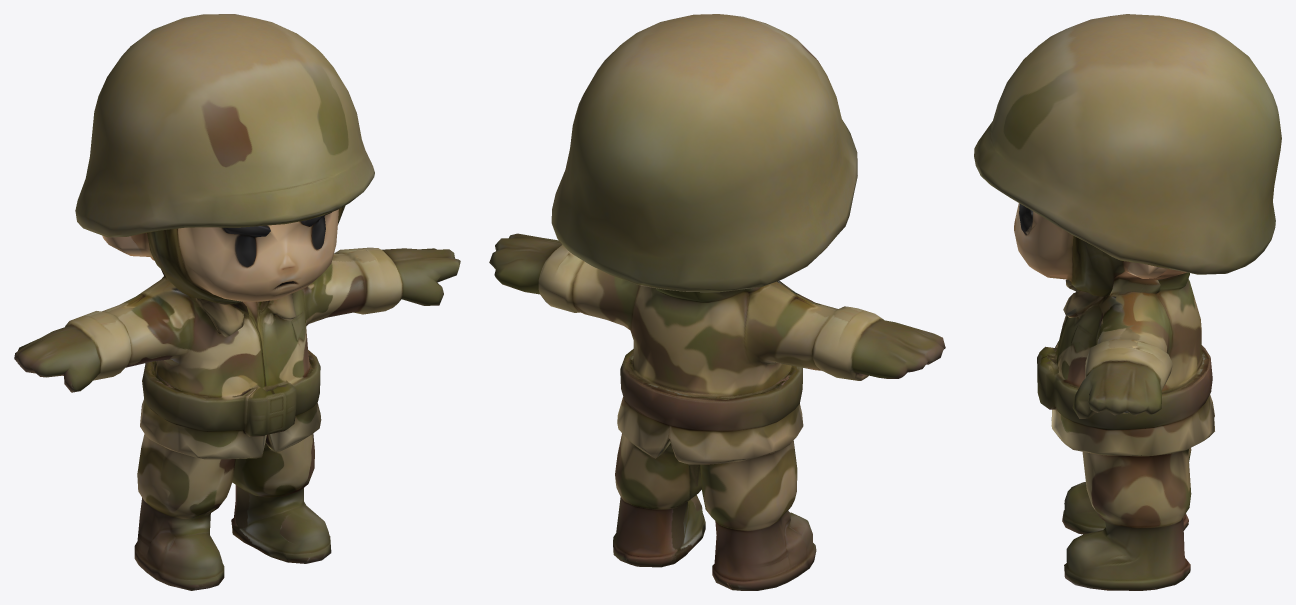
File: enemy_base.fbx
3 renders of one model, left to right at view 1: azimuth 30°, elevation 25°; view 2: azimuth 150°, elevation 25°; view 3: azimuth 270°, elevation 25°, orthographic.
Parts seen in each view (by area): view 1: input; view 2: input; view 3: input.
Part boxes in pixels (x1,y1,x2,y2): input: (14,14,460,590); input: (489,14,945,590); input: (974,14,1281,590).
Size of the model in its own units: 176 by 200 by 108.
1 material, 1 textured.
